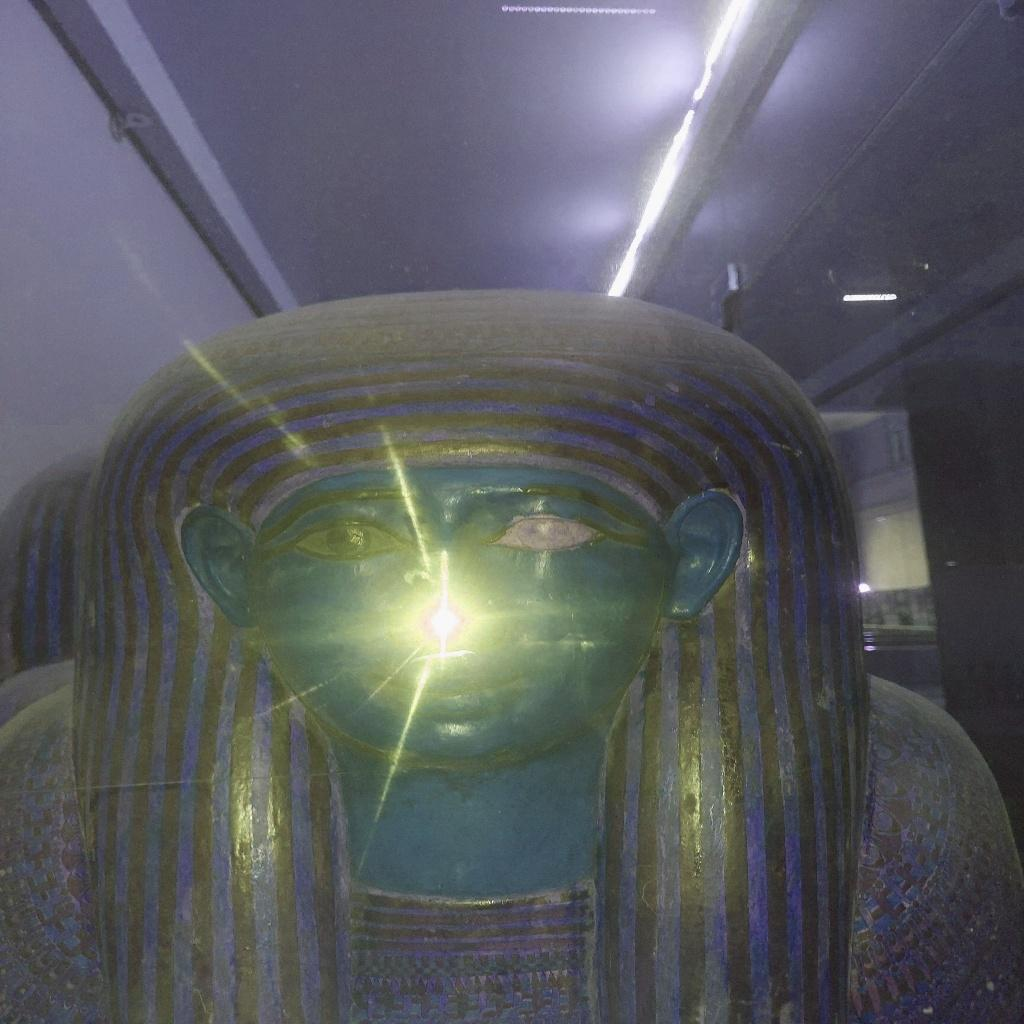Coffin of Ahmose I: (0, 288, 1024, 1024)
